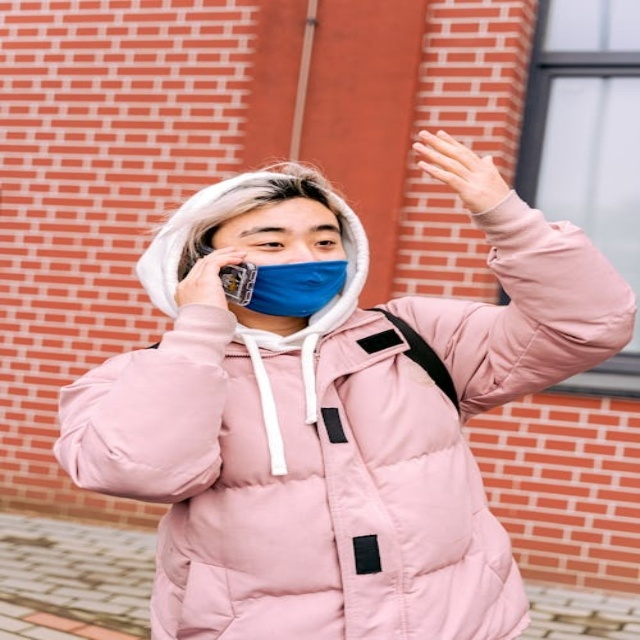Mascara: (220, 258, 349, 316)
Sin_gafas: (233, 222, 342, 257)
Sin_guantes: (411, 121, 507, 204), (173, 244, 250, 302)
